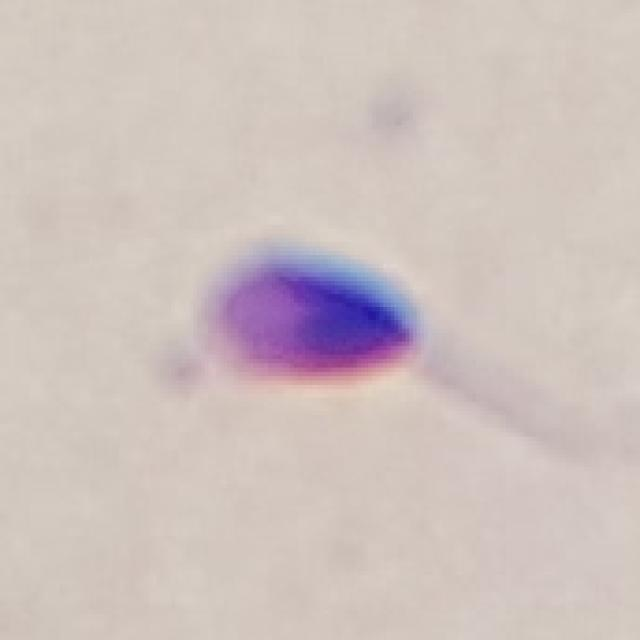normal sperm: (193, 226, 536, 447)
